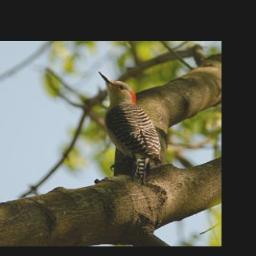Woodpecker: (97, 71, 161, 185)
